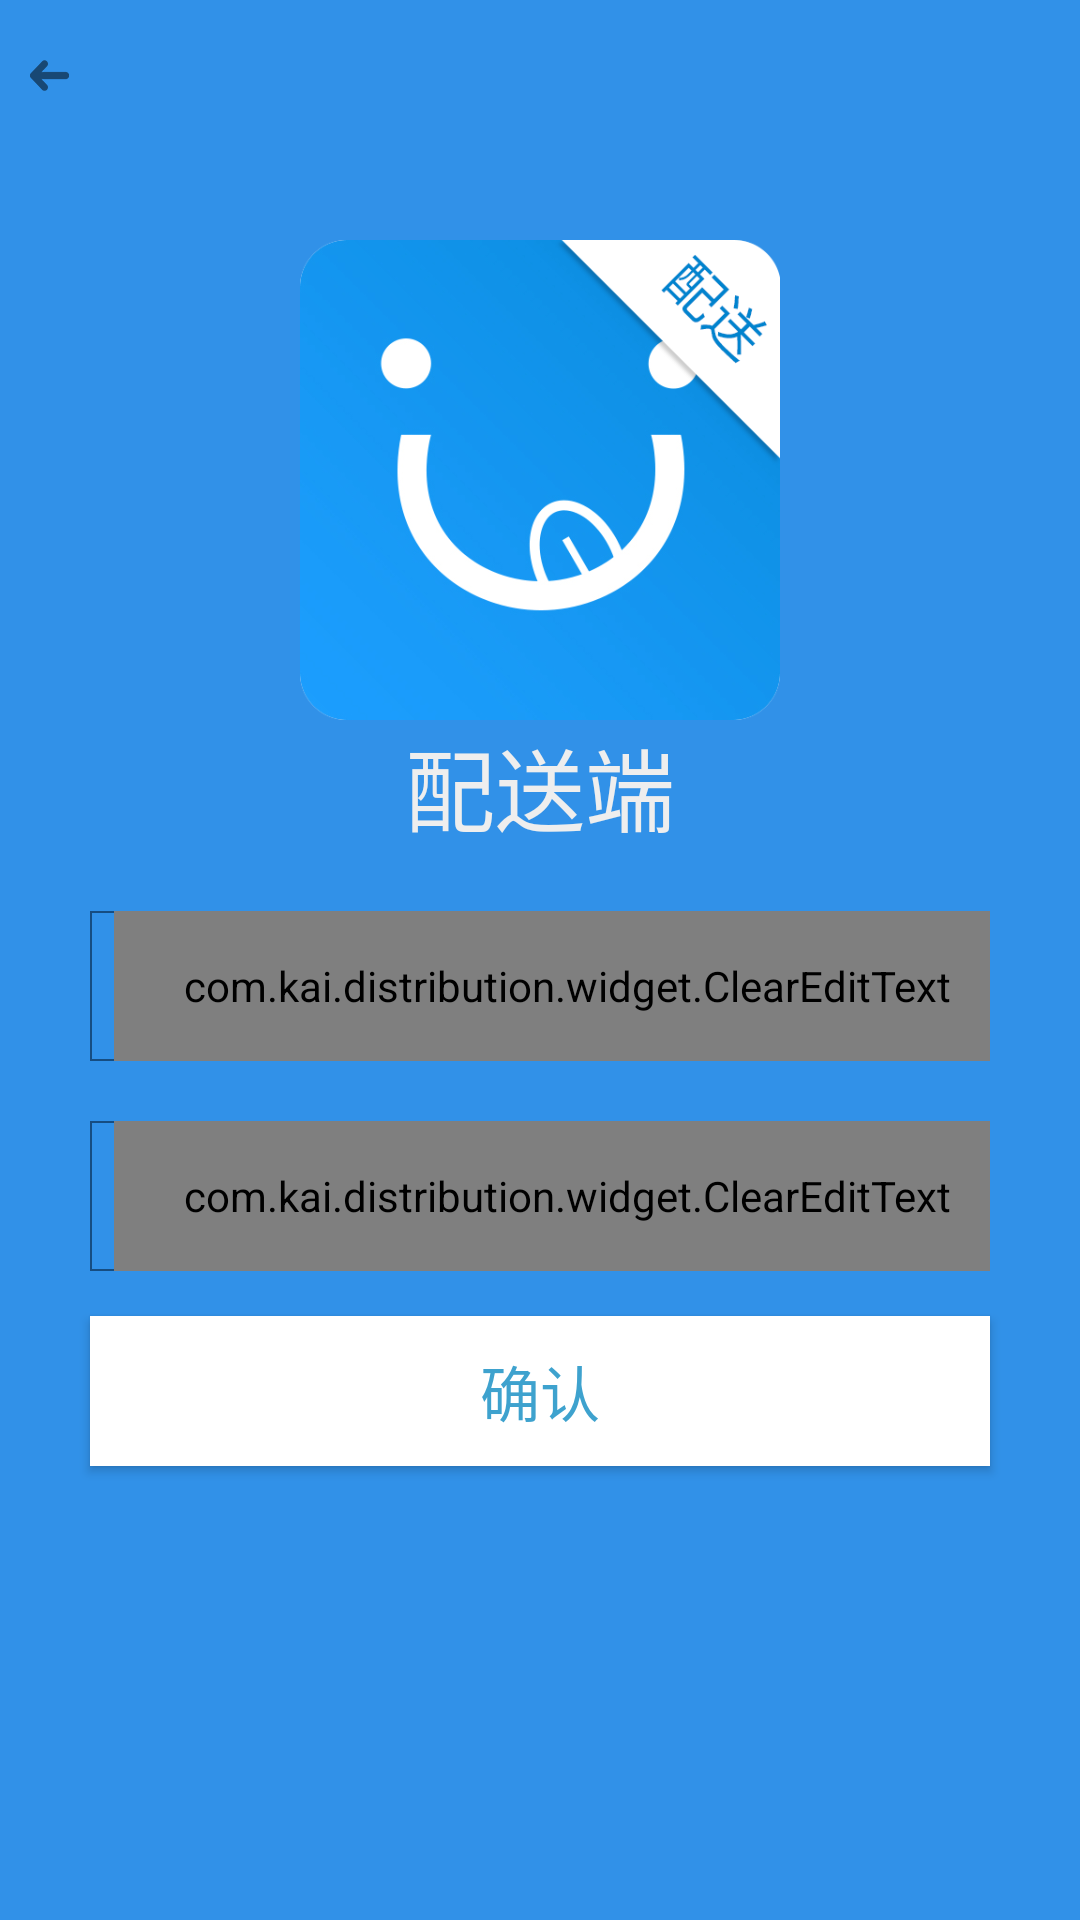

Where icons sit on this 1080px x 1920px app screen, as (x1, y1, x2, y2):
arrow left: (30, 60, 69, 91)
